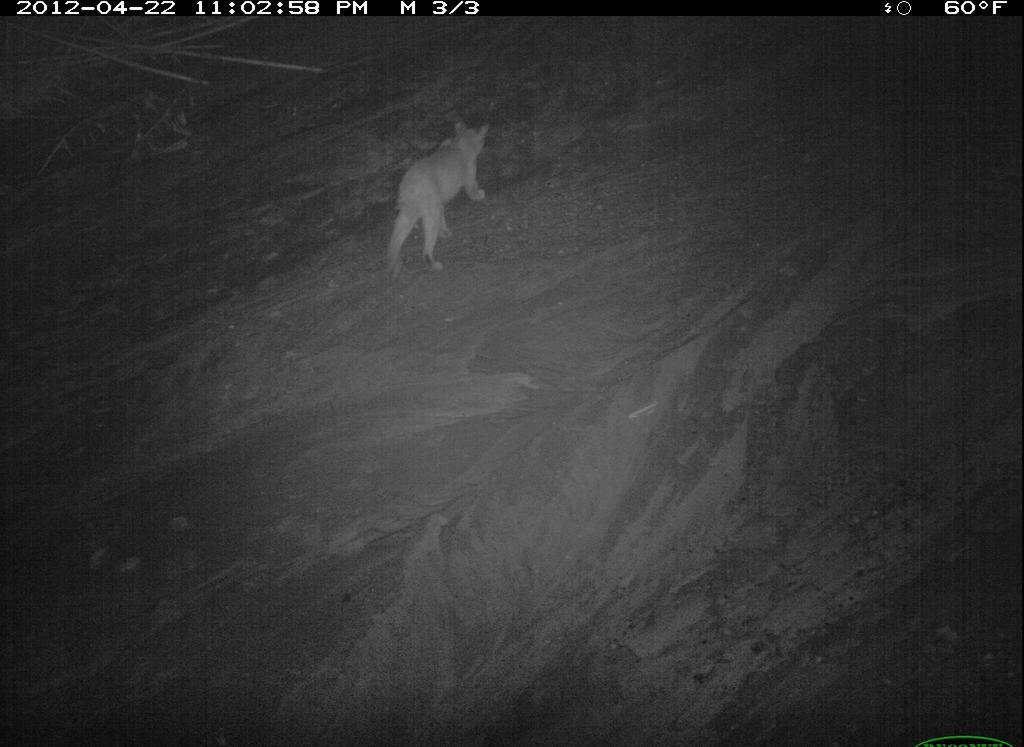bobcat: (756, 229, 997, 564)
